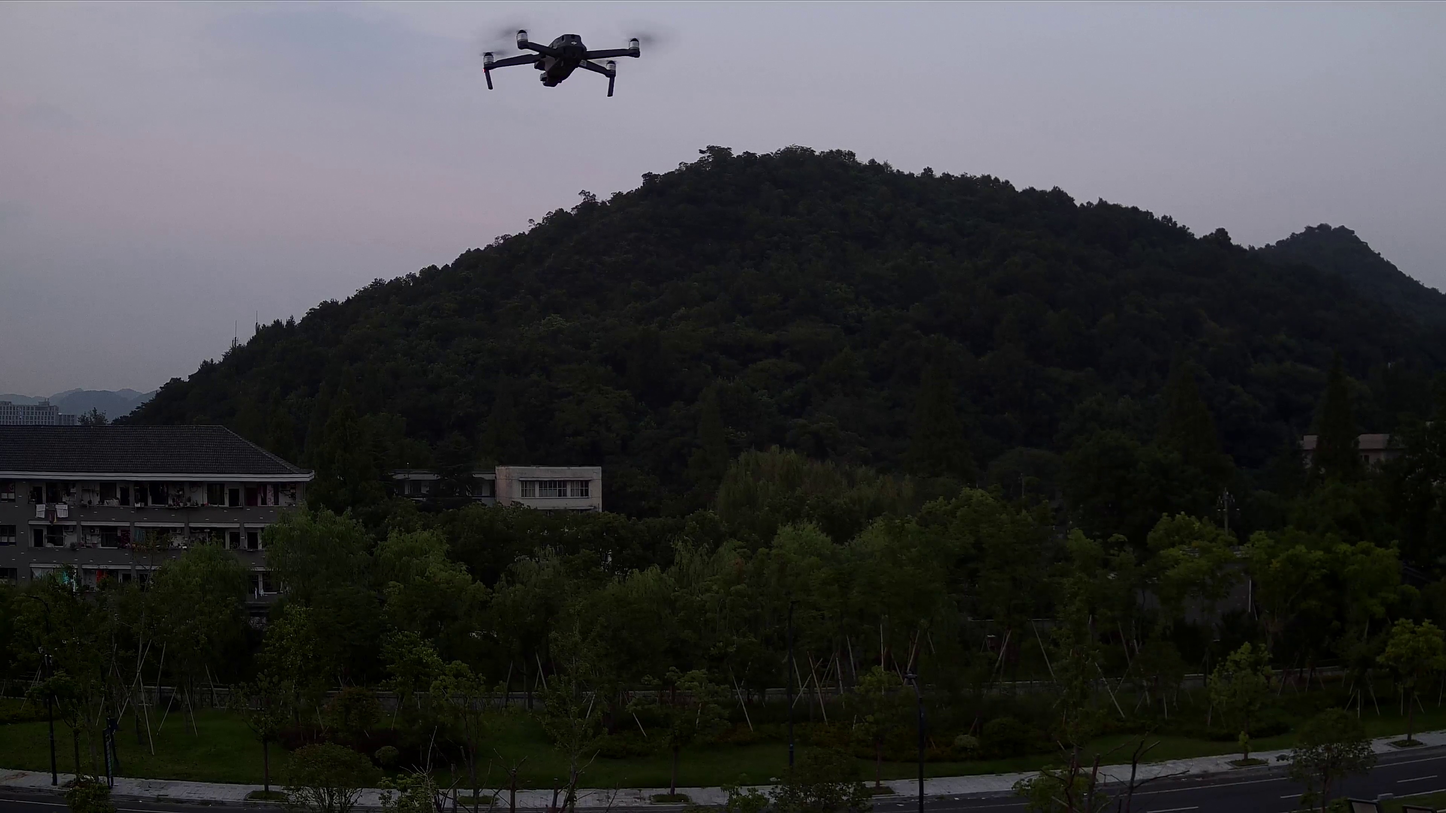UAV: (480, 27, 644, 101)
